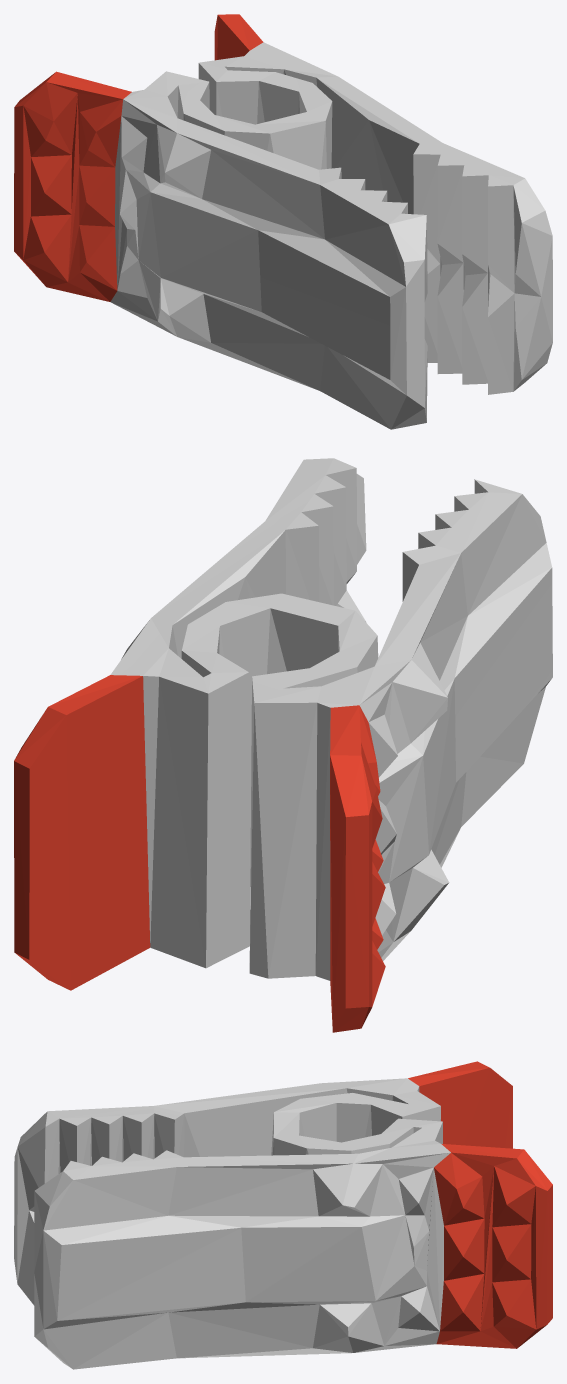
The model's file is CrocodileClipOpen.fbx.
3 renders of one model, top to bottom at view 1: azimuth 30°, elevation 25°; view 2: azimuth 150°, elevation 25°; view 3: azimuth 270°, elevation 25°, orthographic. The views are drawn at different scales.
Visible parts, largest first — view 1: Crocodile_clip_v1.2; view 2: Crocodile_clip_v1.2; view 3: Crocodile_clip_v1.2.
Part boxes in pixels (x1,y1,x2,y2): Crocodile_clip_v1.2: (14,14,552,429); Crocodile_clip_v1.2: (14,458,552,1032); Crocodile_clip_v1.2: (14,1061,552,1369).
Size of the model in its own units: 2387 by 1600 by 4040.
